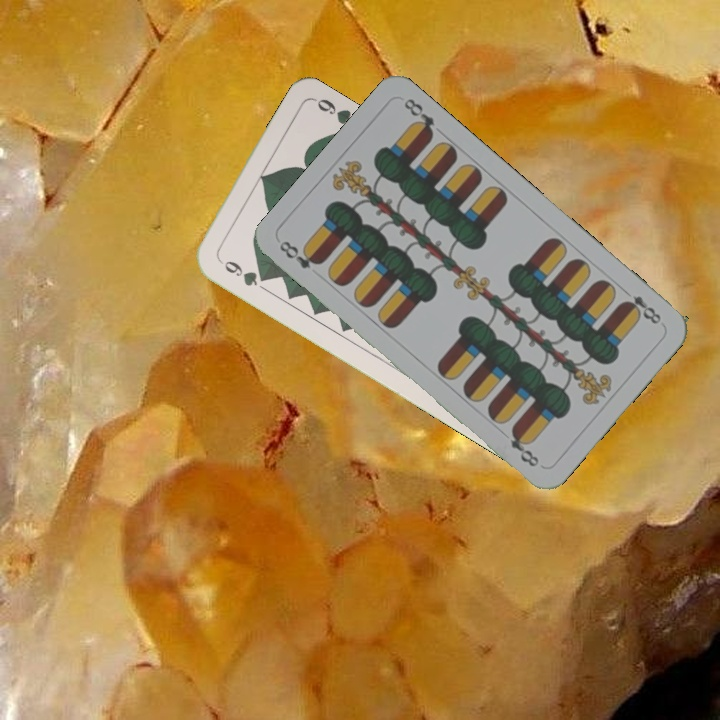E8: (618, 284, 664, 327), (274, 236, 325, 272)
G9: (214, 254, 271, 289)
